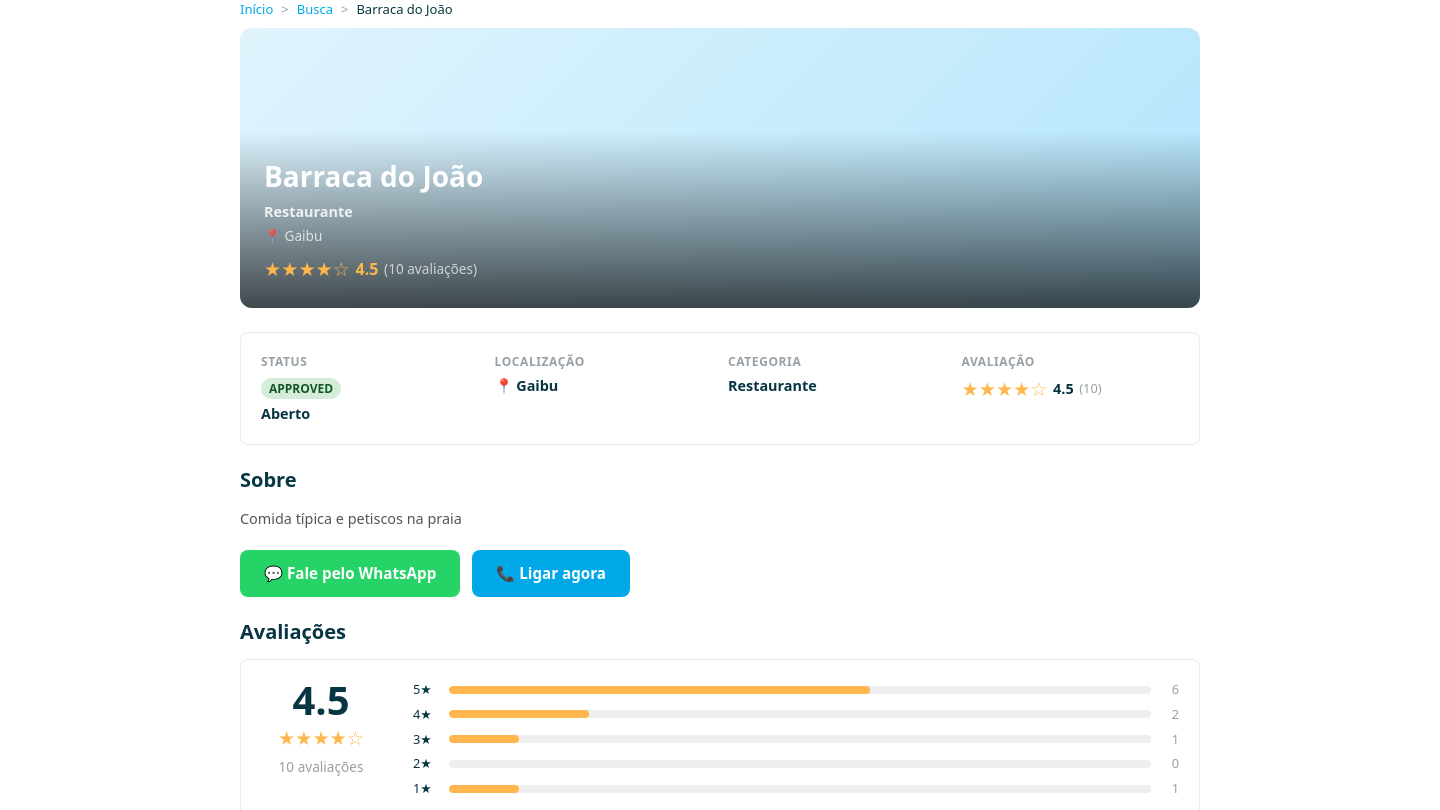
Test: WorkerDetailComponent › should open contact modal when WhatsApp button is clicked
Click the button with test id "btn-whatsapp": {"x": 350, "y": 574} [240,550,460,597]
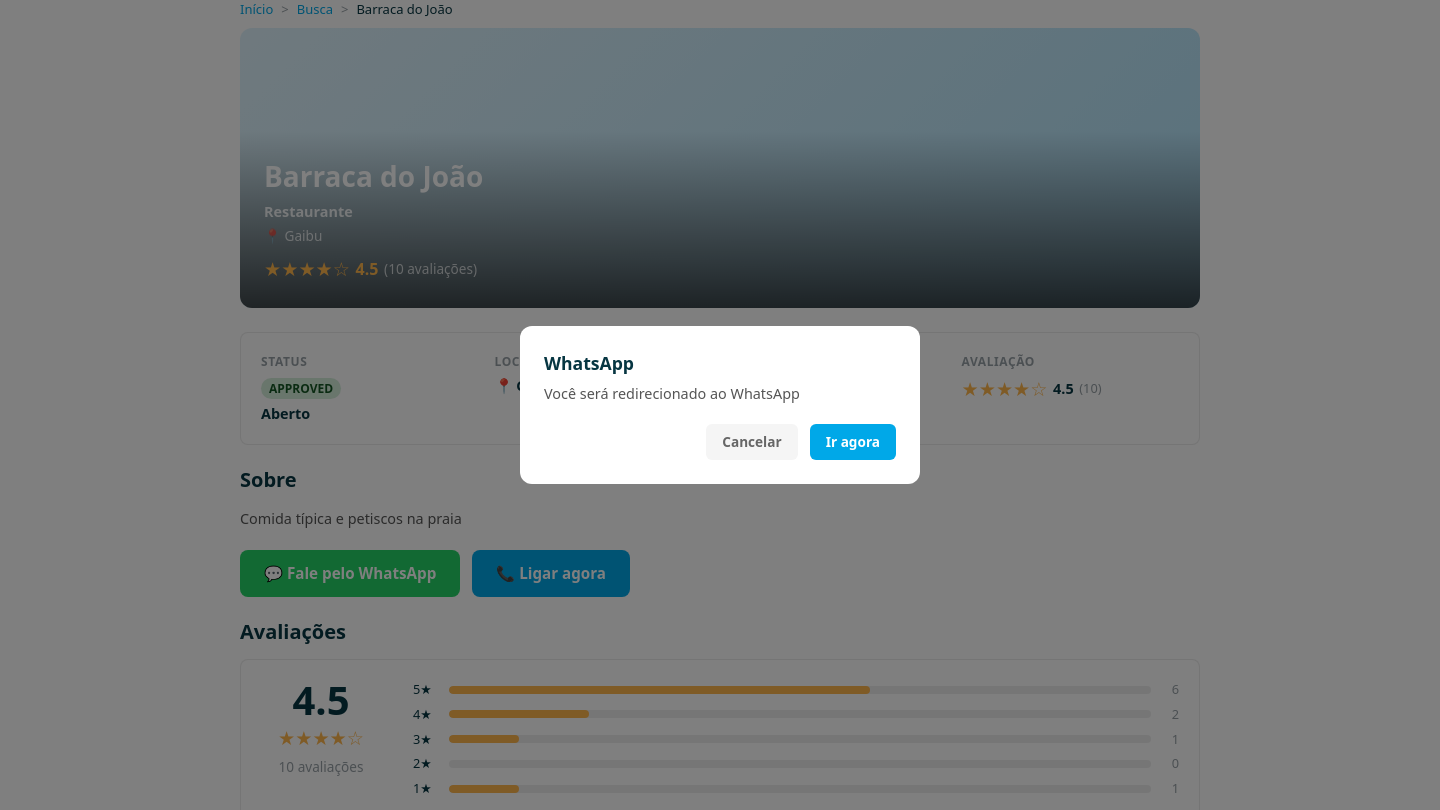
Now the element with test id "contact-modal" is shown
